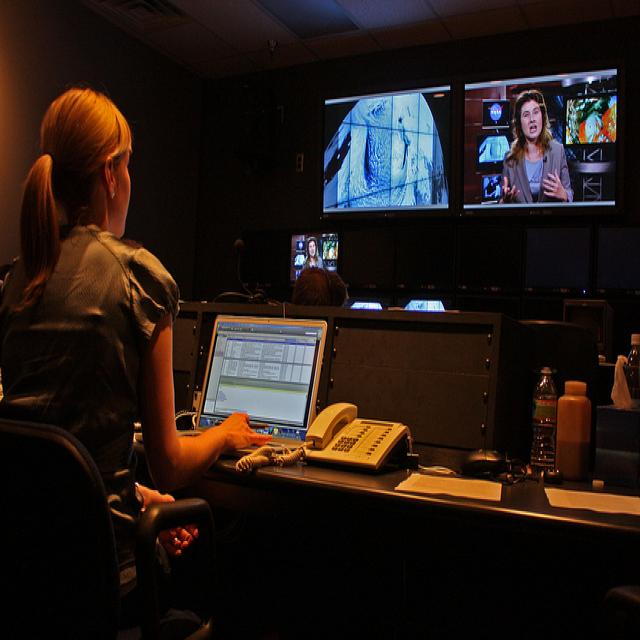Bottle: (535, 356, 582, 469)
People: (20, 71, 165, 568)
Table: (85, 293, 640, 640), (5, 387, 219, 640)
